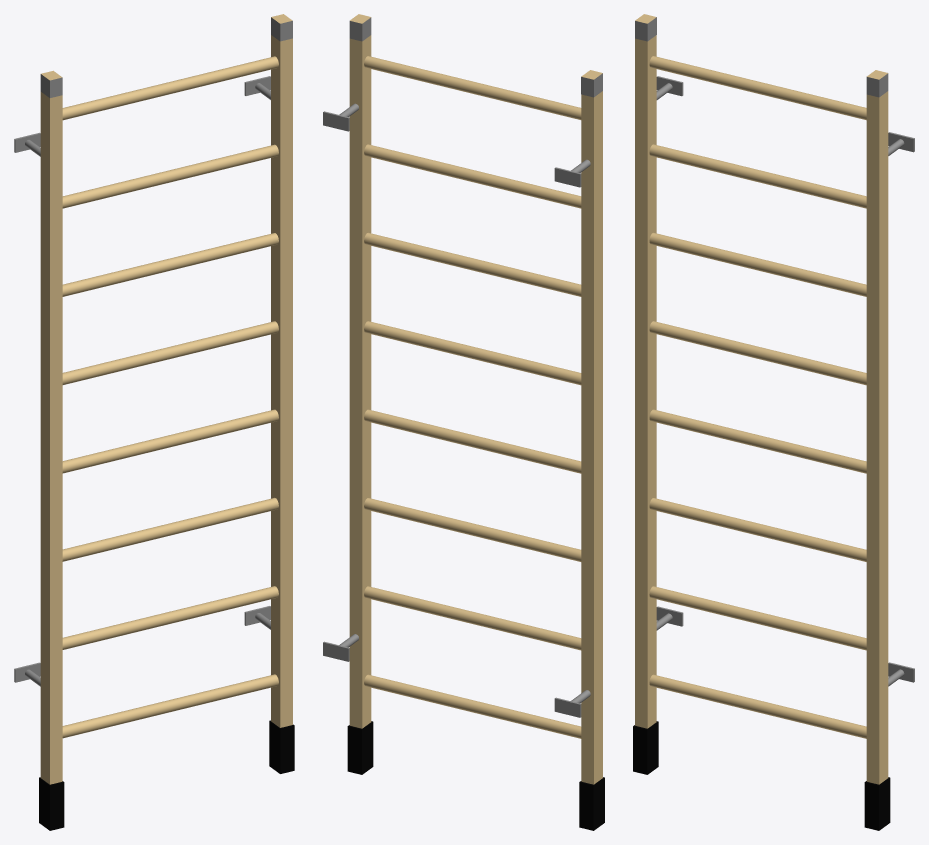
The picture shows the model from 3 angles, left to right: view 1: azimuth 30°, elevation 25°; view 2: azimuth 150°, elevation 25°; view 3: azimuth 330°, elevation 25°; orthographic projection.
Parts seen in each view (by area): view 1: wood_post, wood_post.001, rung.004, rung.003, rung.007, rung.001, rung.008, rung.002, rung.005, rung.006, foot, foot.001; view 2: wood_post.001, wood_post, rung.002, rung.004, rung.007, rung.005, rung.006, rung.001, rung.008, rung.003, foot.001, foot (+4 smaller); view 3: wood_post.001, wood_post, rung.005, rung.007, rung.003, rung.001, rung.002, rung.008, rung.004, rung.006, foot.001, foot.
Boxes of the visible parts, x1=… form: wood_post: x1=40, y1=70, x2=62, y2=784; wood_post.001: x1=271, y1=14, x2=292, y2=727; rung.004: x1=62, y1=409, x2=278, y2=473; rung.003: x1=62, y1=497, x2=278, y2=561; rung.007: x1=62, y1=144, x2=278, y2=208; rung.001: x1=62, y1=674, x2=278, y2=738; rung.008: x1=62, y1=56, x2=278, y2=120; rung.002: x1=62, y1=586, x2=278, y2=649; rung.005: x1=62, y1=321, x2=278, y2=384; rung.006: x1=62, y1=233, x2=278, y2=296; foot: x1=39, y1=777, x2=64, y2=830; foot.001: x1=269, y1=720, x2=294, y2=773; wood_post.001: x1=349, y1=14, x2=371, y2=728; wood_post: x1=581, y1=70, x2=602, y2=784; rung.002: x1=364, y1=586, x2=581, y2=650; rung.004: x1=364, y1=409, x2=581, y2=473; rung.007: x1=364, y1=144, x2=581, y2=208; rung.005: x1=364, y1=321, x2=581, y2=385; rung.006: x1=364, y1=232, x2=581, y2=296; rung.001: x1=364, y1=674, x2=581, y2=738; rung.008: x1=364, y1=56, x2=581, y2=119; rung.003: x1=364, y1=498, x2=581, y2=561; foot.001: x1=347, y1=721, x2=373, y2=774; foot: x1=579, y1=777, x2=604, y2=830; wood_post.001: x1=866, y1=70, x2=888, y2=784; wood_post: x1=635, y1=14, x2=656, y2=728; rung.005: x1=649, y1=321, x2=866, y2=385; rung.007: x1=649, y1=144, x2=866, y2=208; rung.003: x1=649, y1=498, x2=866, y2=561; rung.001: x1=649, y1=674, x2=866, y2=738; rung.002: x1=649, y1=586, x2=866, y2=650; rung.008: x1=649, y1=56, x2=866, y2=120; rung.004: x1=649, y1=409, x2=866, y2=473; rung.006: x1=649, y1=232, x2=866, y2=296; foot.001: x1=864, y1=777, x2=890, y2=830; foot: x1=633, y1=721, x2=658, y2=774.
Bounding box in the file's own units: 0.787 × 2.2 × 0.1635.
